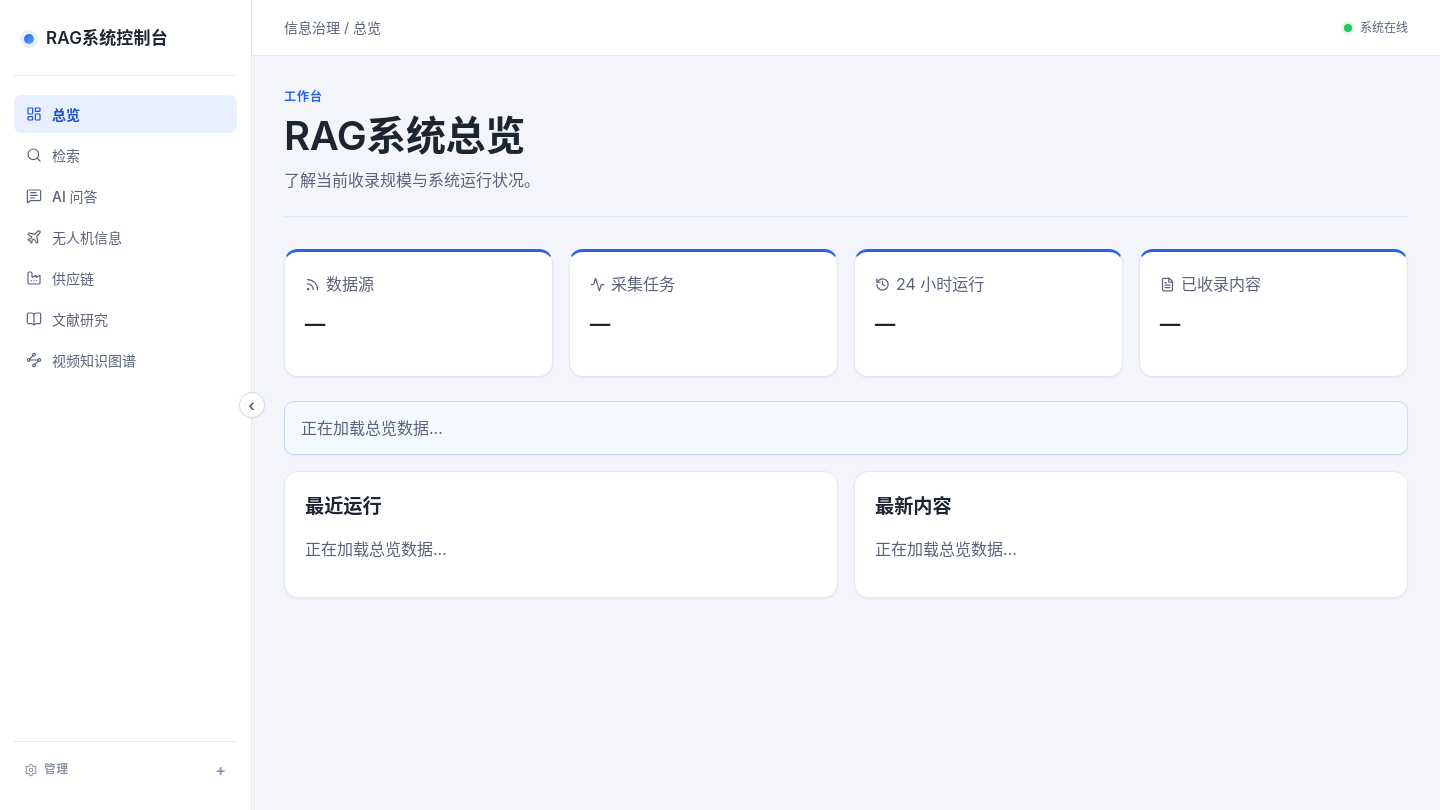
App run navigation › opens the selected run detail from the content detail run link
Step 1. Click the button "管理 +" → (126, 770), box [14, 754, 237, 786]
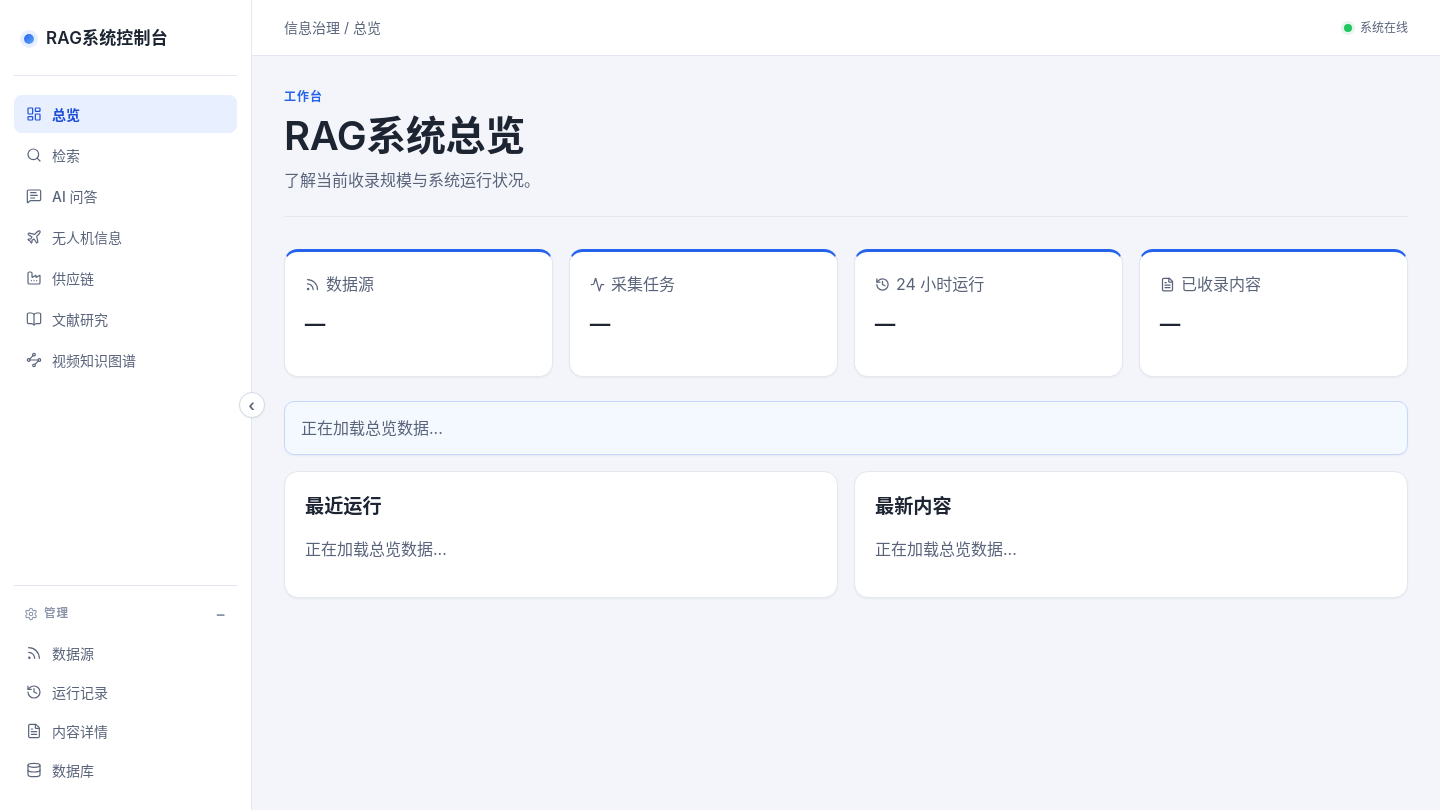
Step 2. Click the button "内容详情" → (126, 731), box [14, 712, 237, 750]
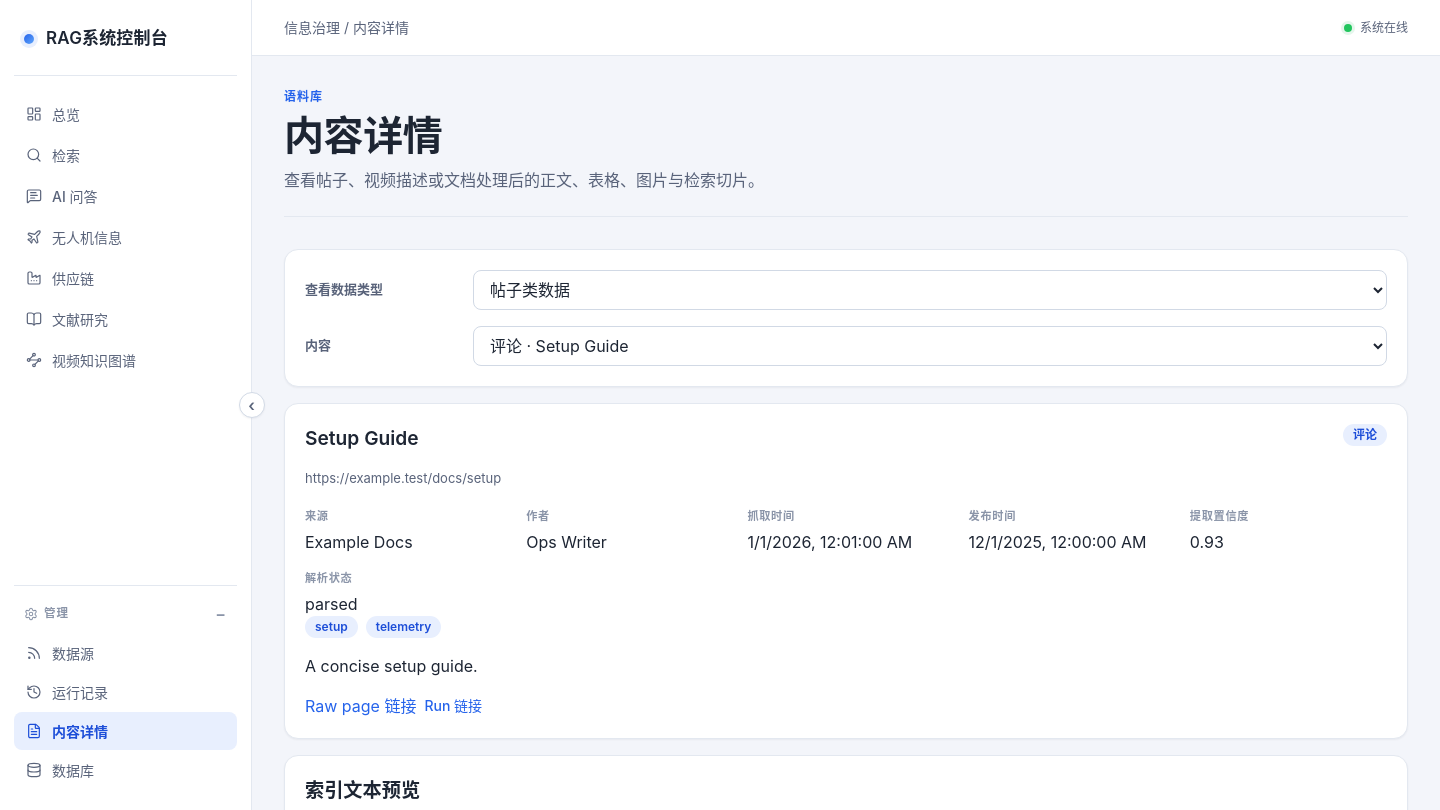
Check: the heading "Setup Guide" is shown, box [305, 426, 419, 450]
Step 3. Click the button "Run 链接" → (484, 706), box [424, 695, 544, 716]
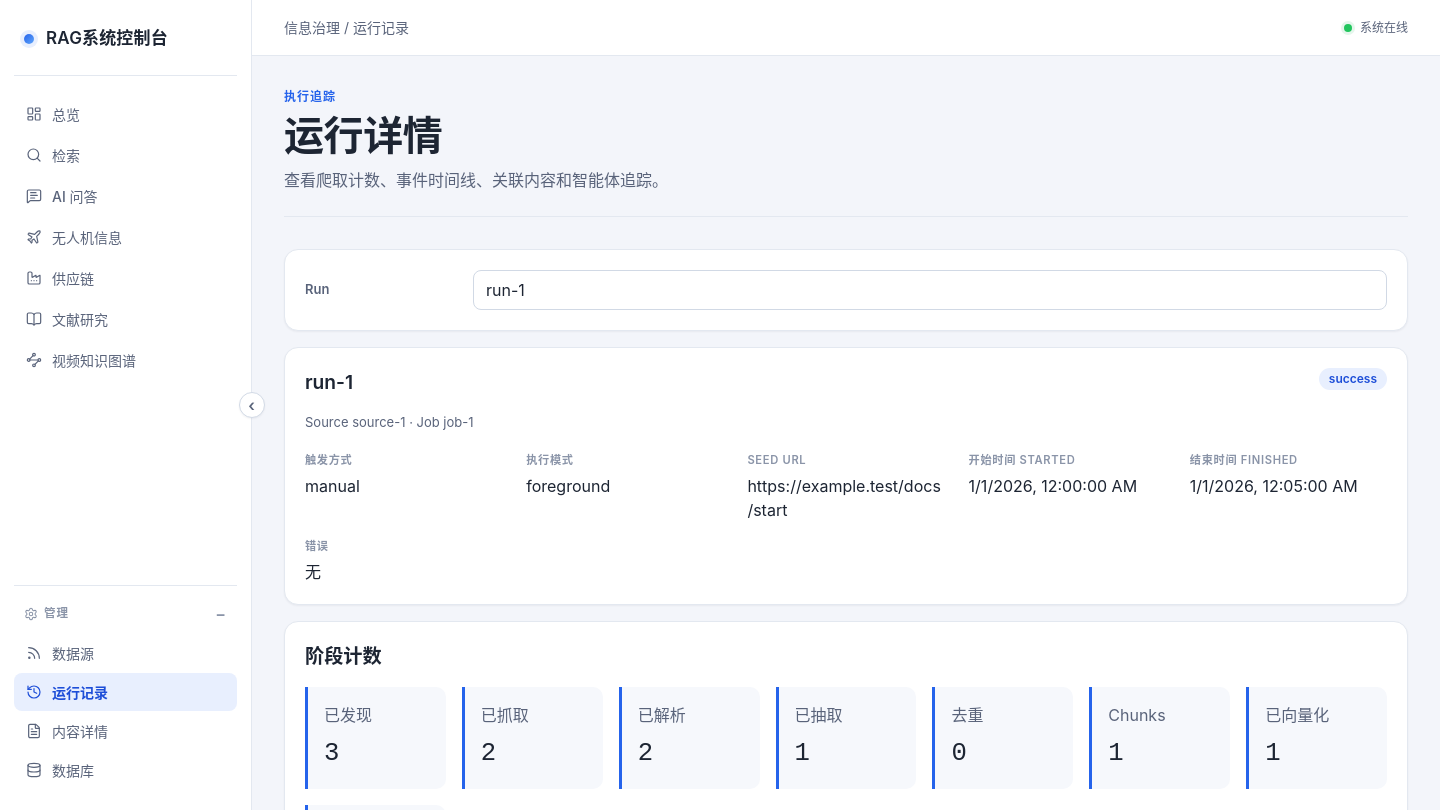
Check: the heading "run-1" is shown, box [305, 370, 353, 394]
